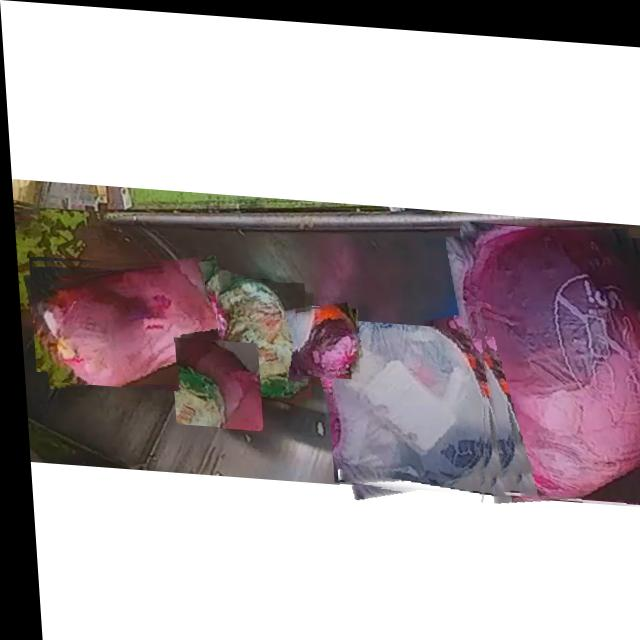other_trashbag: (466, 221, 640, 492), (325, 317, 480, 481), (36, 261, 230, 385), (212, 275, 299, 393), (170, 336, 255, 422), (294, 302, 354, 373)
